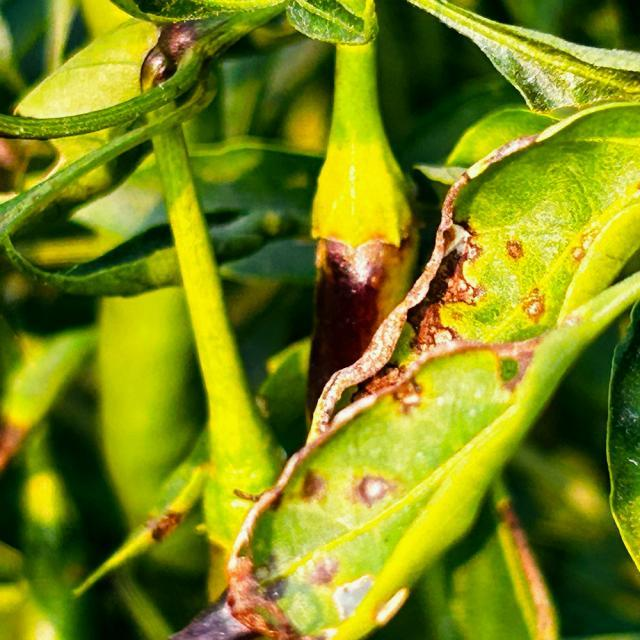Bercak Daun Serkospora: (218, 99, 640, 640)
